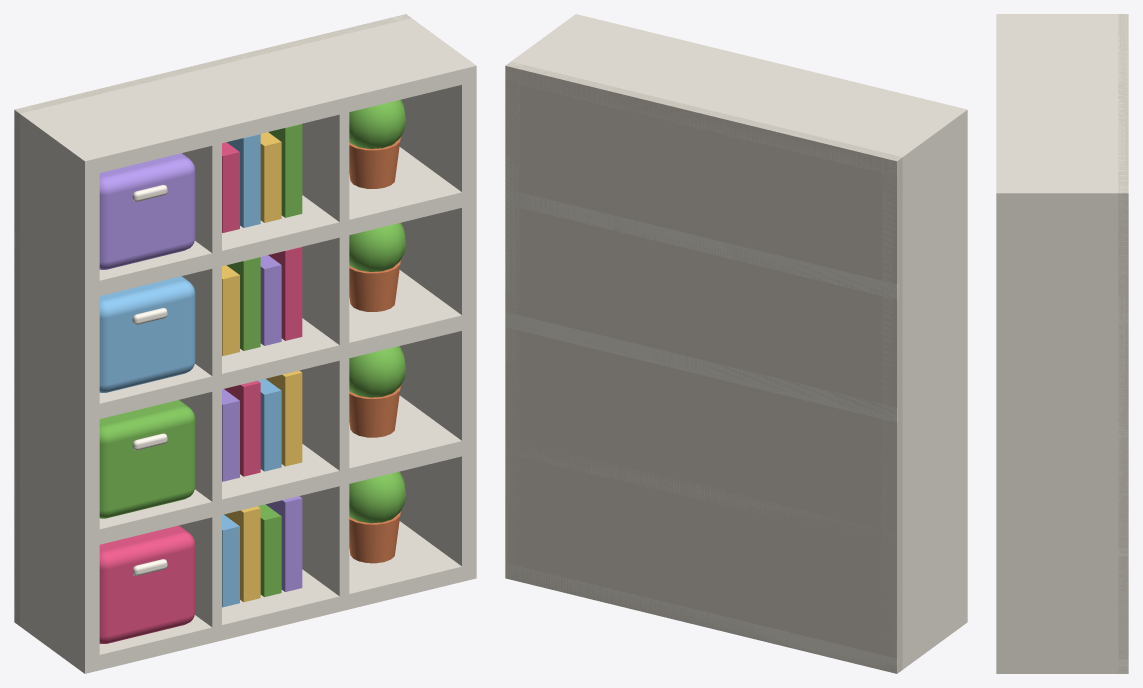
File: shelf-cubby.glb
3 renders of one model, left to right at view 1: azimuth 30°, elevation 25°; view 2: azimuth 150°, elevation 25°; view 3: azimuth 270°, elevation 25°, orthographic. The views are drawn at different scales.
Bounding box in the file's own units: 1.6 × 2 × 0.5.
